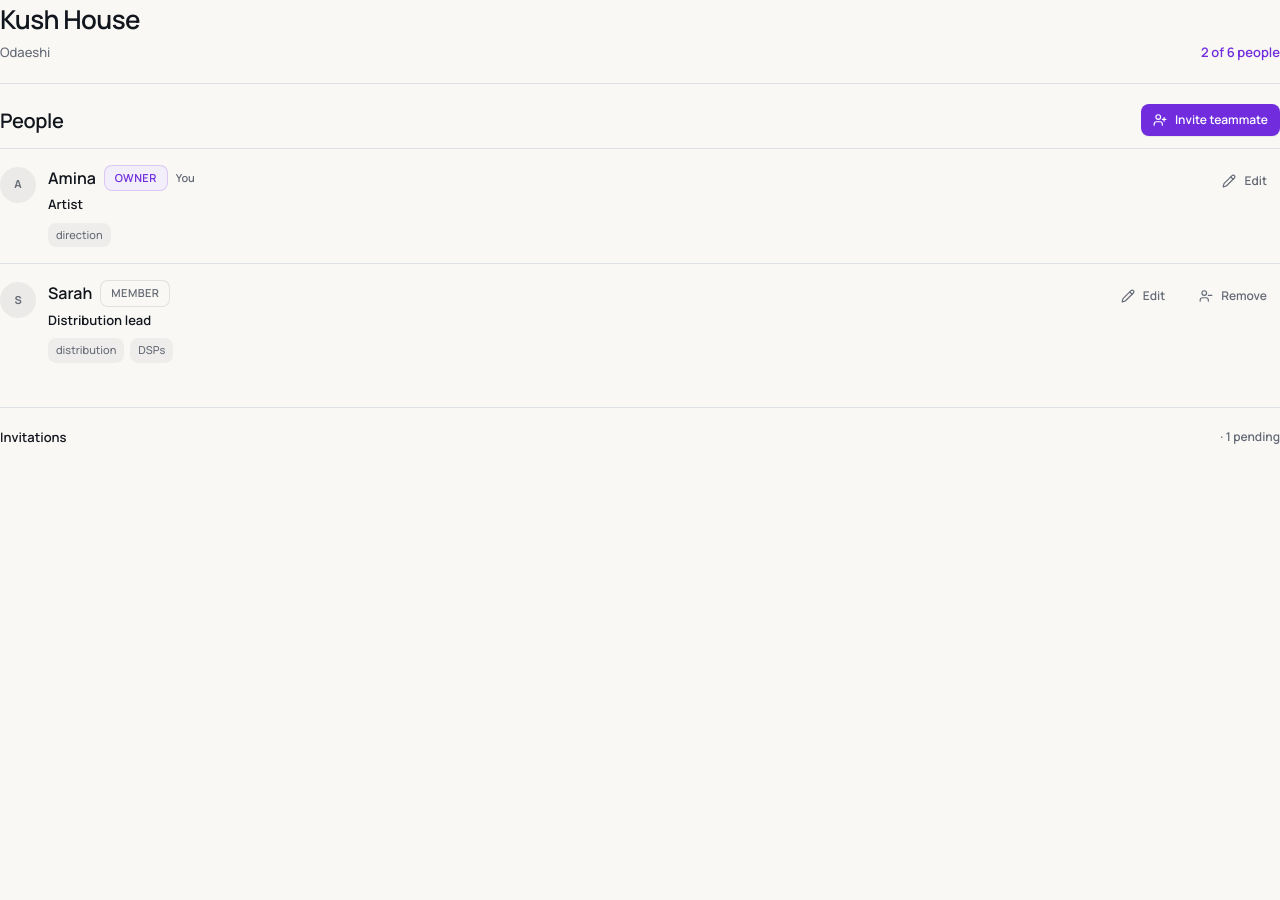
Test: YourTeamPanel › lets the owner choose a preset and reports a sent invitation
Click the button "Invite teammate" at (1210, 120), box [1141, 104, 1279, 136]
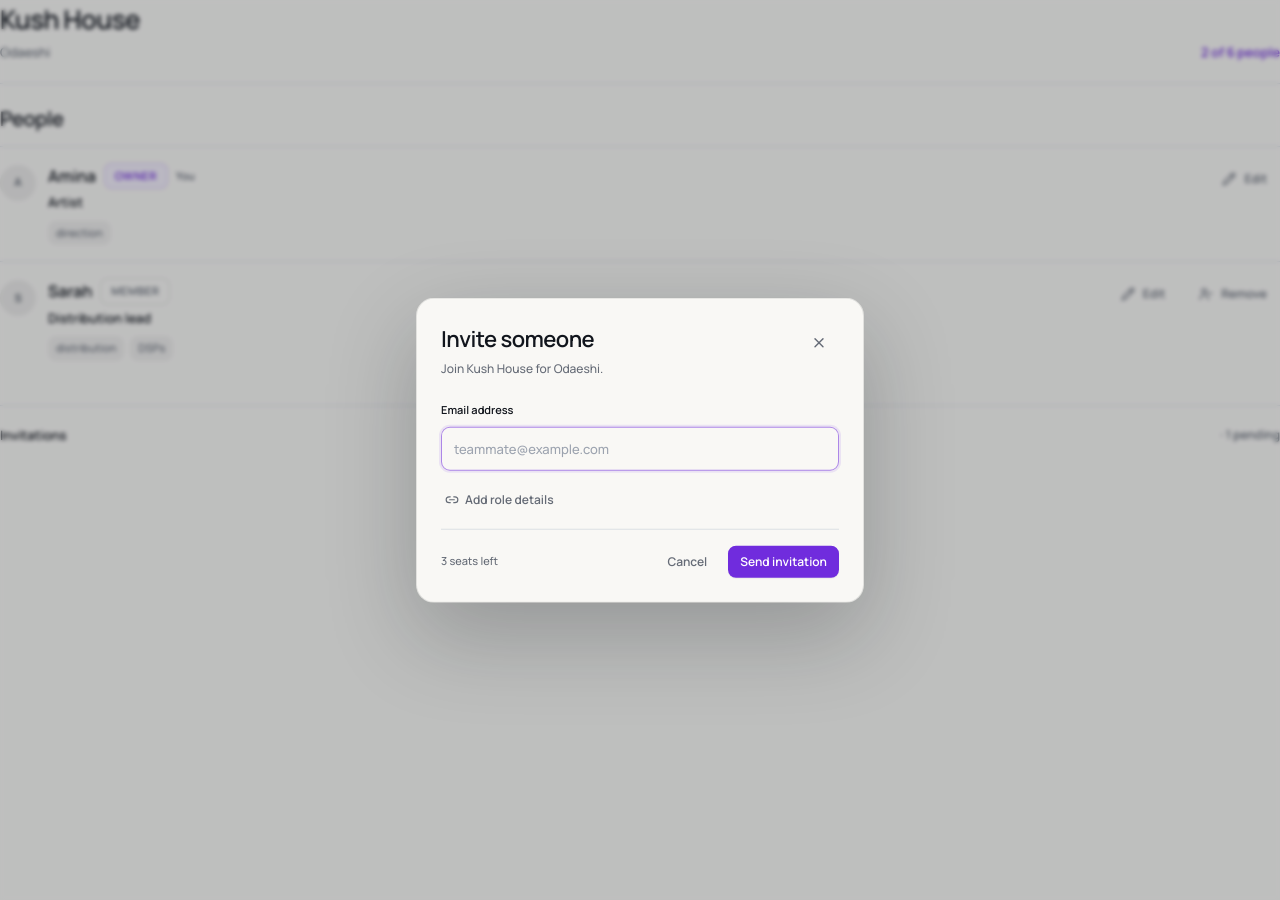
Type "newperson@example.com" into the field labelled "Email address" at (640, 448), box [441, 426, 839, 470]
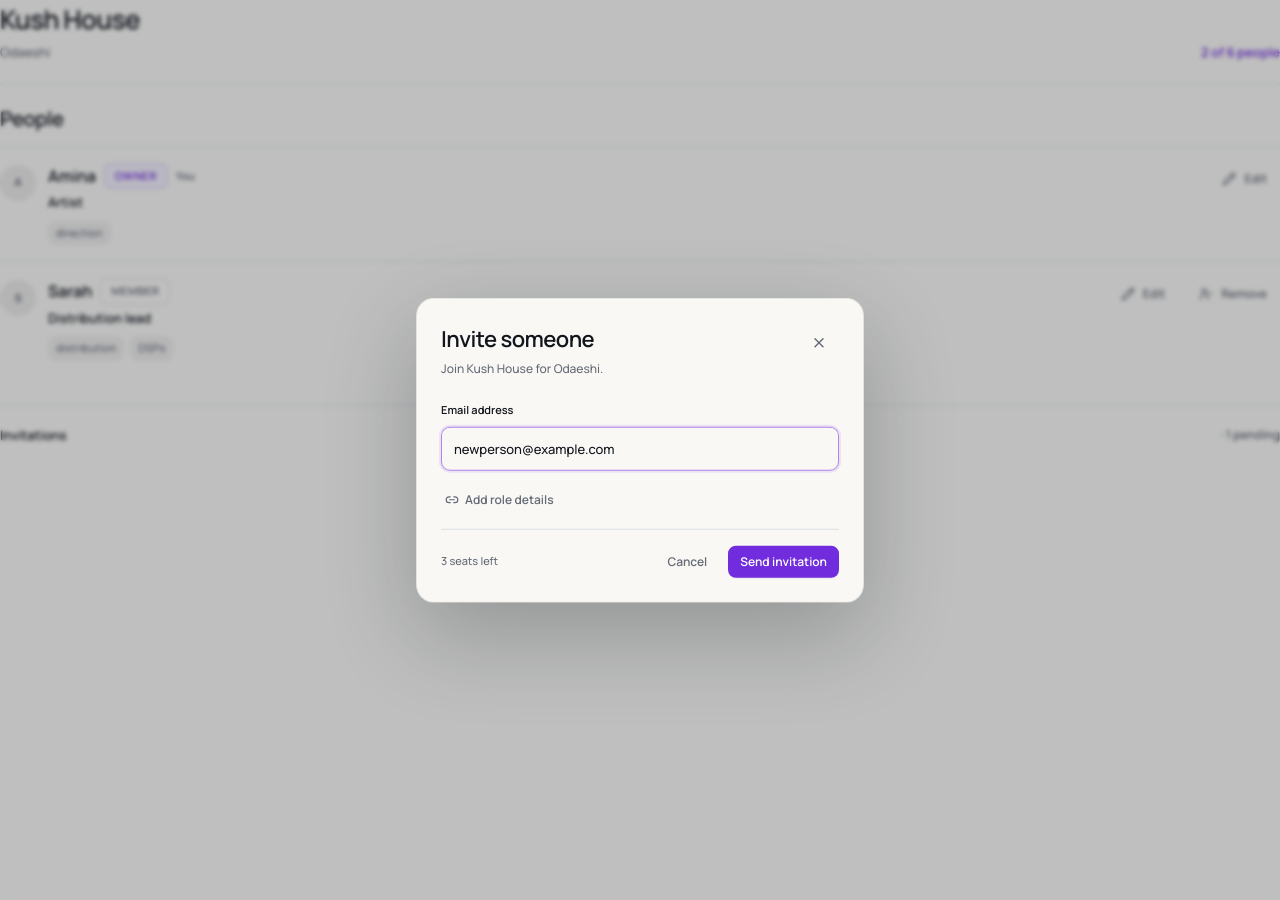
Click the button "Add role details" at (499, 499), box [441, 486, 558, 512]
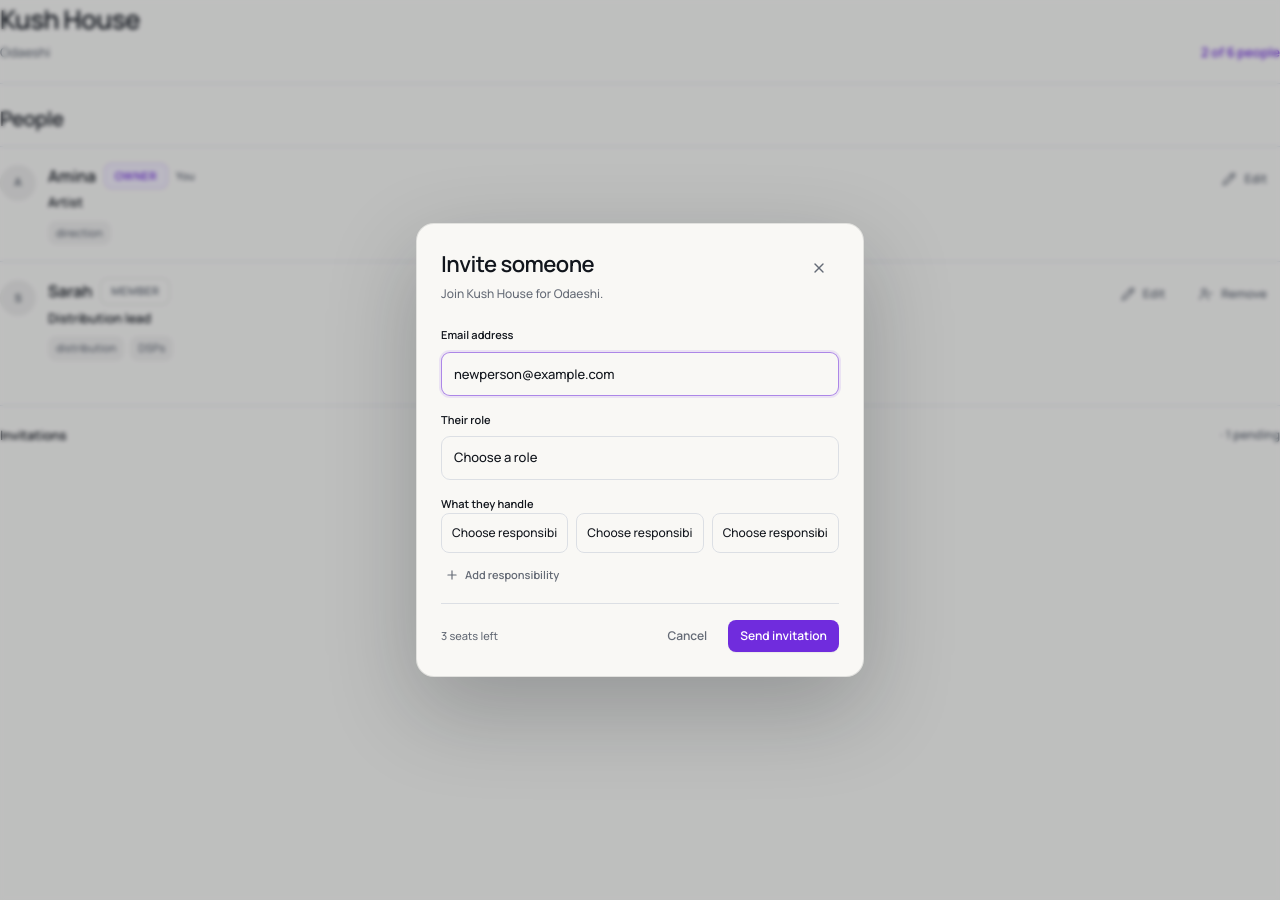
Select "DSP / distribution" in the dropdown labelled "Their role" at (640, 458), box [441, 436, 839, 480]
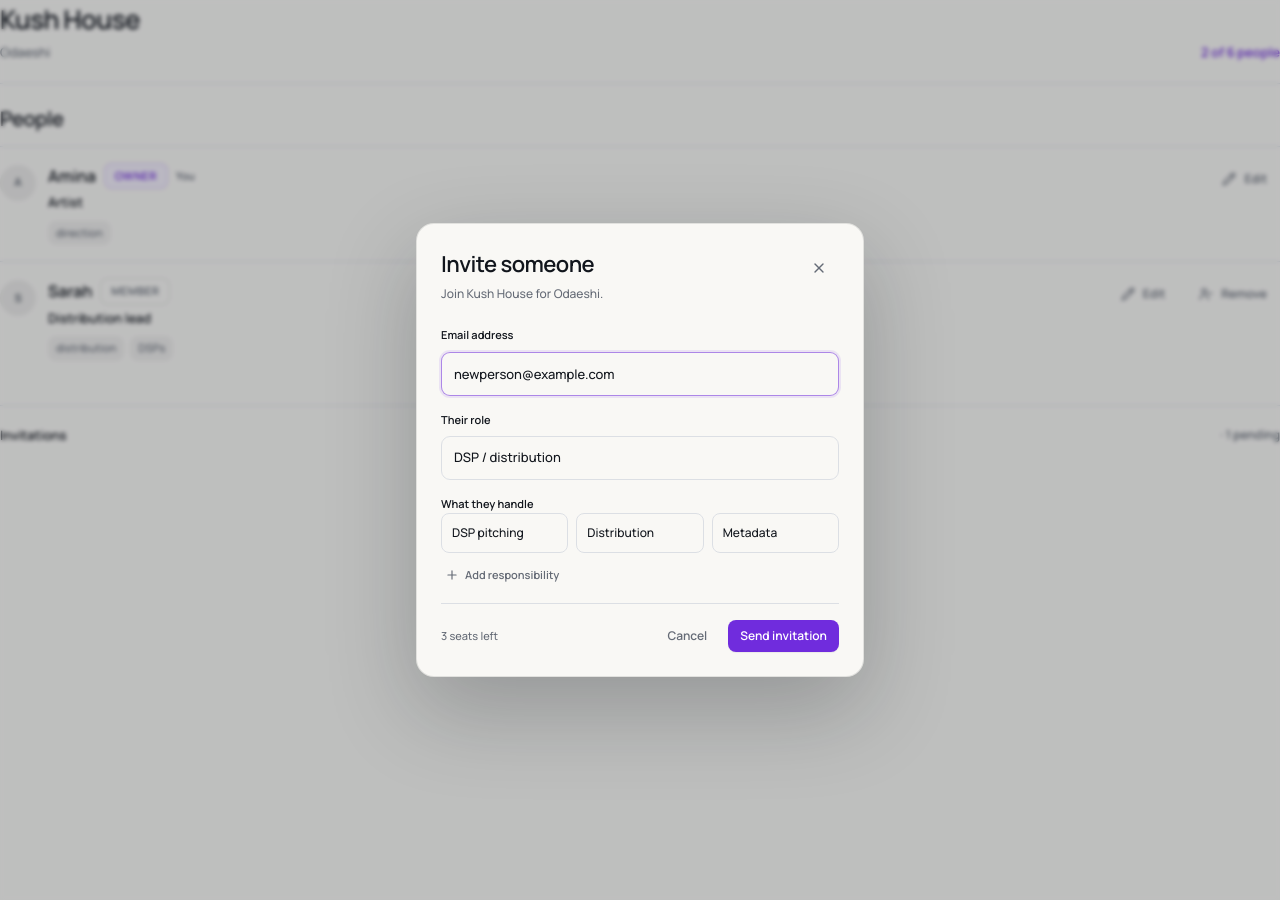
Click the button "Send invitation" at (784, 636), box [728, 620, 839, 652]
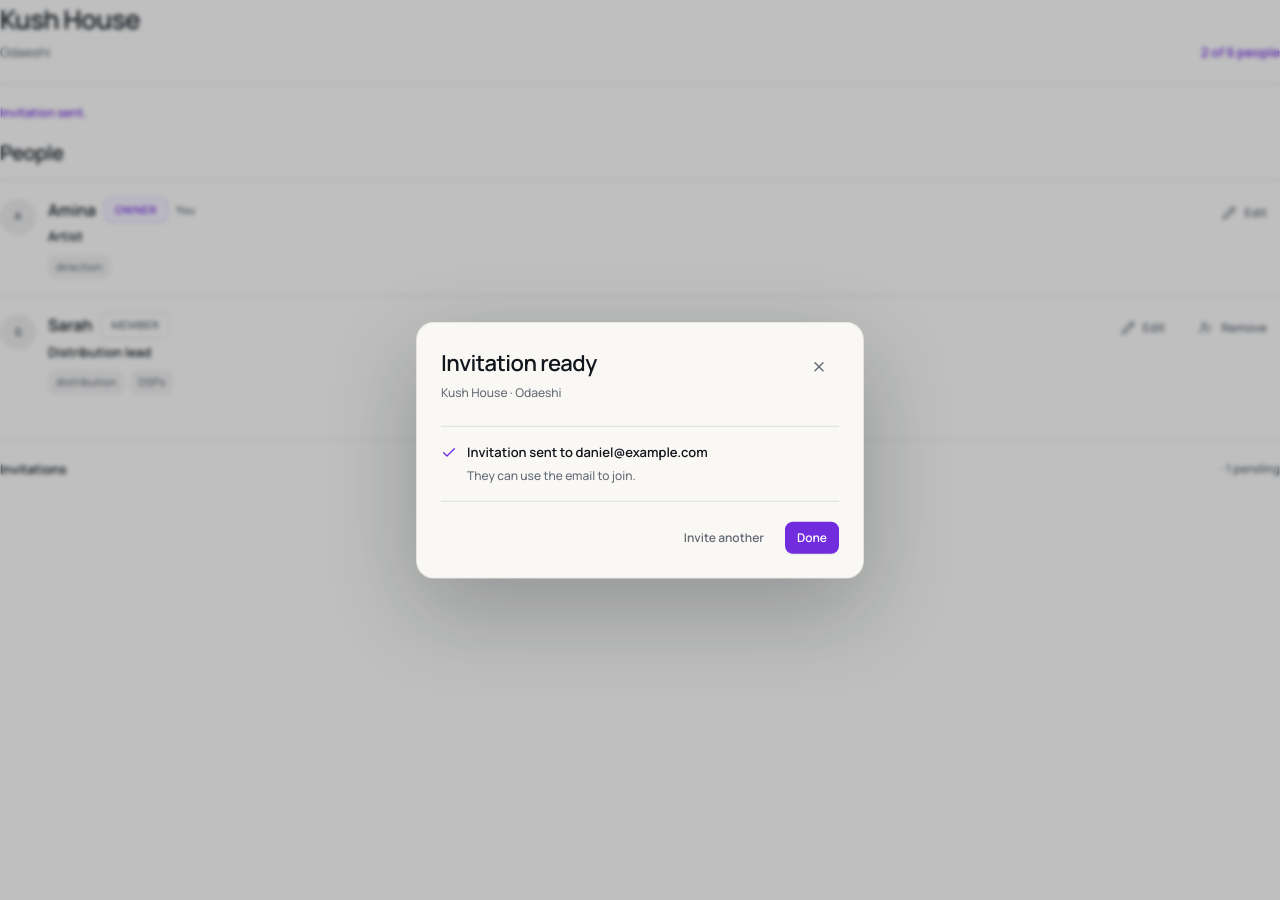
Now the text "Invitation sent." is shown, box [0, 104, 87, 120]
